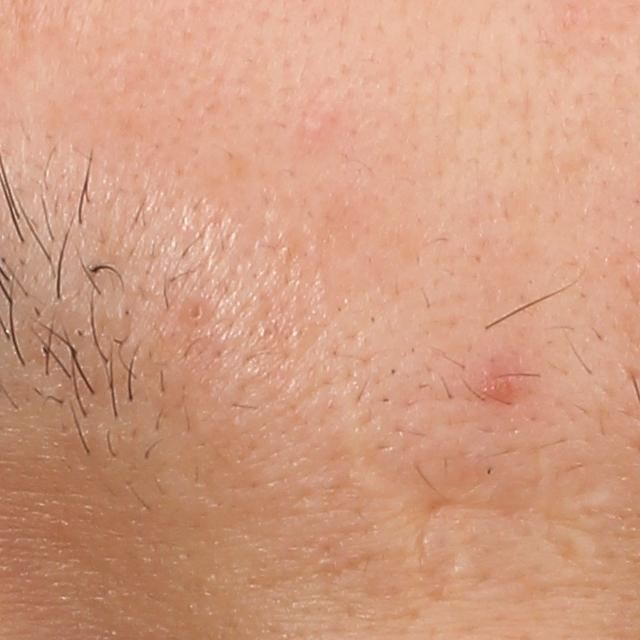comedo: (303, 110, 337, 138), (181, 301, 211, 325)
other: (357, 441, 613, 602)
papule: (478, 366, 520, 406)
